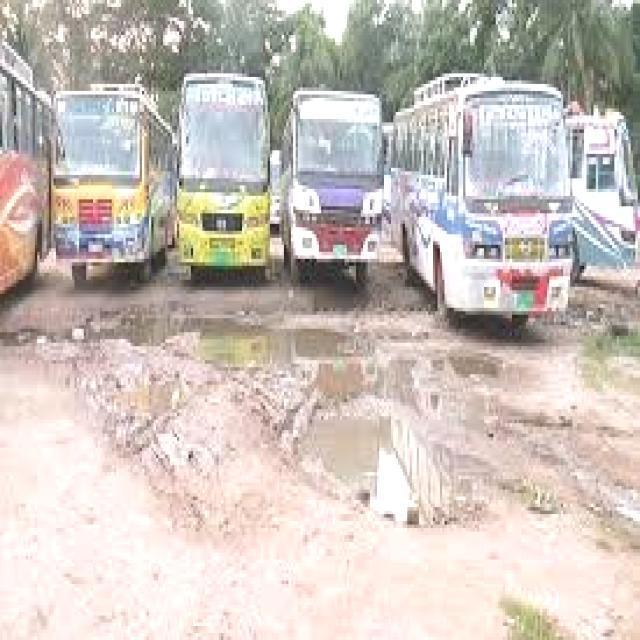Bus: (388, 77, 578, 327), (47, 56, 166, 284), (172, 45, 279, 294), (281, 58, 392, 287), (1, 39, 51, 303), (571, 105, 640, 296)
